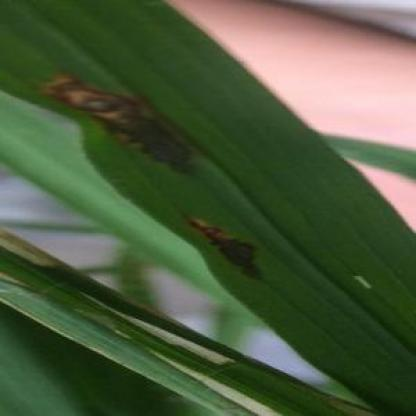Rice blast: (19, 47, 197, 190), (177, 206, 276, 295)
